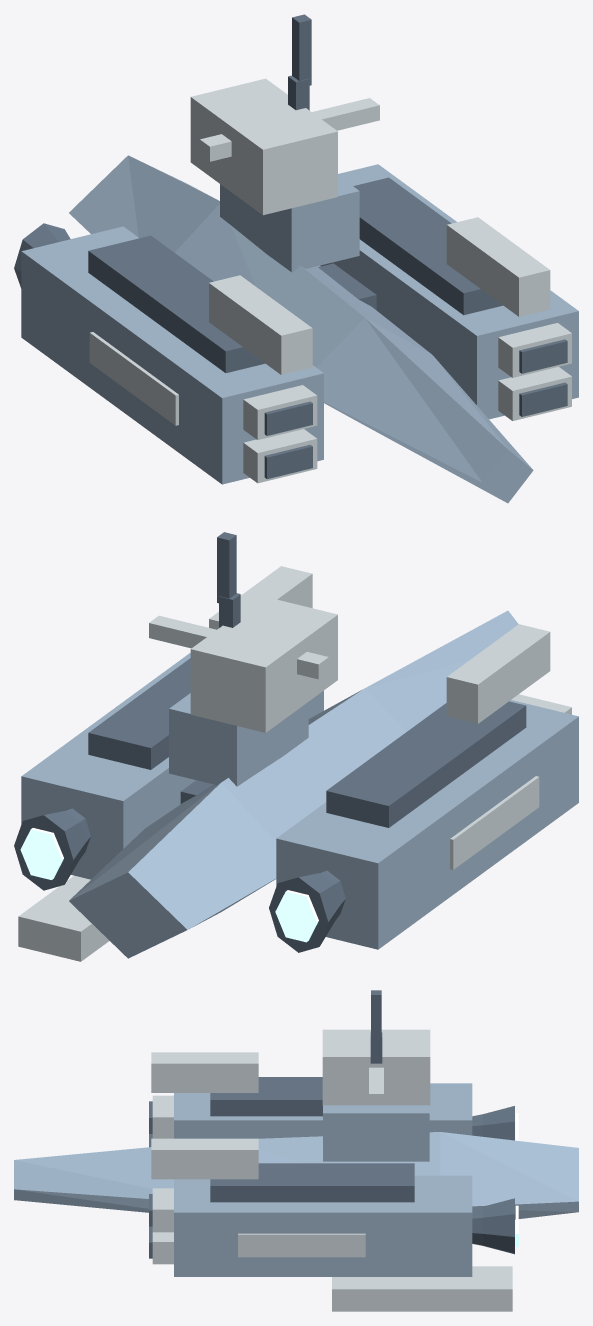
The picture shows the model from 3 angles, top to bottom: view 1: azimuth 30°, elevation 25°; view 2: azimuth 150°, elevation 25°; view 3: azimuth 270°, elevation 25°; orthographic projection. The views are drawn at different scales.
Bounding box in the file's own units: 11.61 × 11.35 × 21.02.
